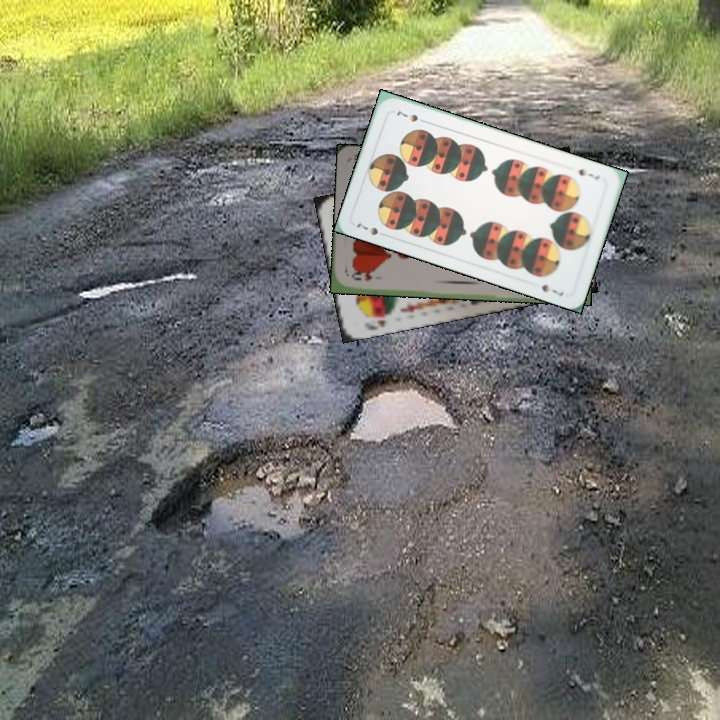HO: (348, 269, 375, 284)
S7: (353, 218, 391, 239), (574, 164, 602, 182)
SK: (359, 315, 388, 332)
